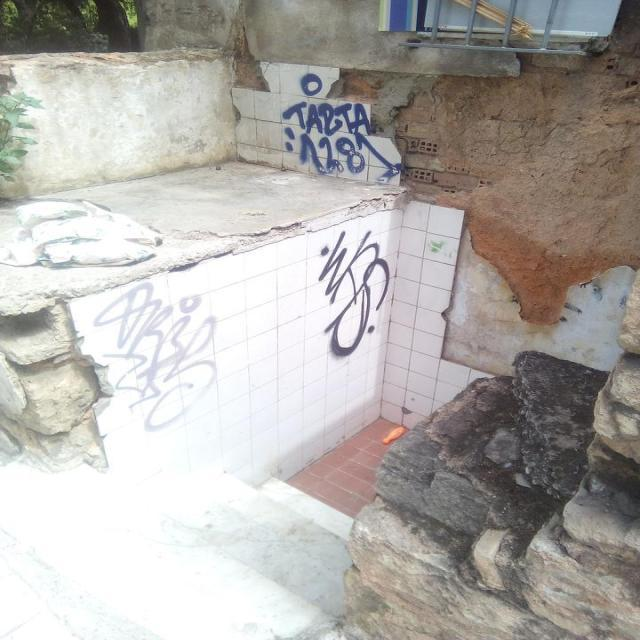nonspitting: (96, 284, 224, 429), (280, 73, 402, 177), (318, 229, 392, 357)
